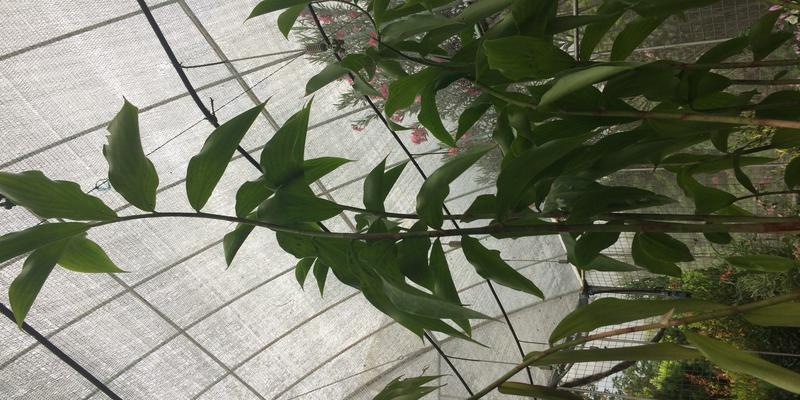Insulin: (8, 22, 749, 304)
